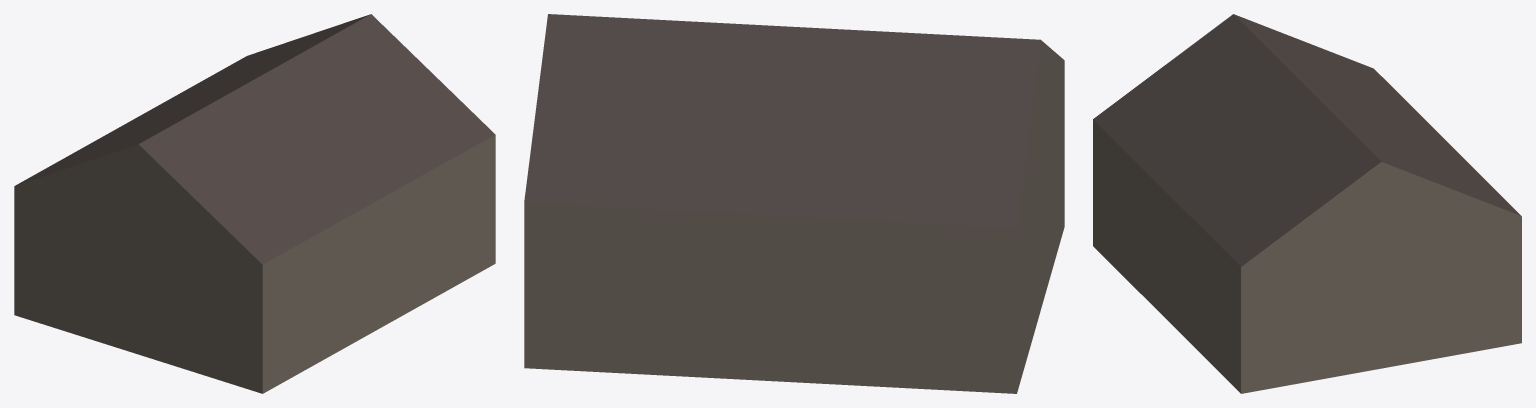
3 renders of one model, left to right at view 1: azimuth 30°, elevation 25°; view 2: azimuth 150°, elevation 25°; view 3: azimuth 270°, elevation 25°, orthographic. The views are drawn at different scales.
Visible parts, largest first — view 1: HP-w369342571; view 2: HP-w369342571; view 3: HP-w369342571.
Boxes of the visible parts, box(x1,y1,x2,y2) form: HP-w369342571: box(14, 14, 495, 393); HP-w369342571: box(524, 14, 1064, 393); HP-w369342571: box(1093, 14, 1521, 393).
Size of the model in its own units: 20.12 by 9.78 by 18.37.
